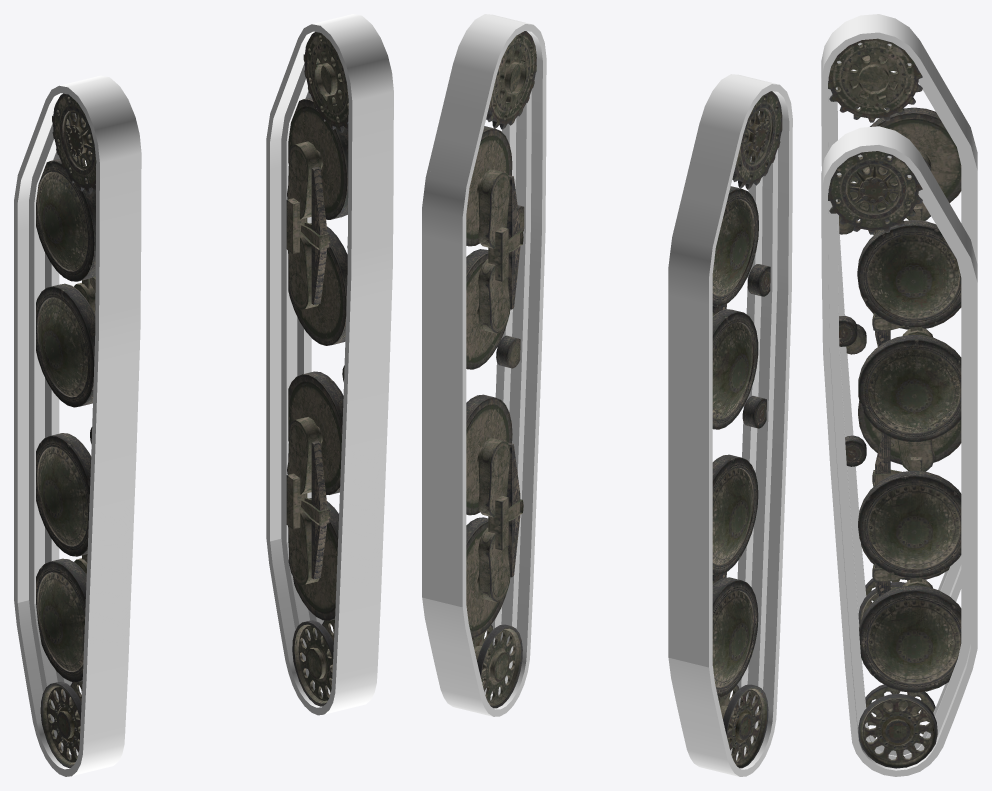
Rendered from Chassis.glb.
The picture shows the model from 3 angles, left to right: view 1: azimuth 30°, elevation 25°; view 2: azimuth 150°, elevation 25°; view 3: azimuth 270°, elevation 25°; orthographic projection. The views are drawn at different scales.
Visible parts, largest first — view 1: set_0_group_0, set_1_group_0, set_3_group_0, set_2_group_0; view 2: set_0_group_0, set_1_group_0, set_3_group_0, set_2_group_0; view 3: set_3_group_0, set_1_group_0, set_2_group_0, set_0_group_0.
Part boxes in pixels (x1,y1,x2,y2): set_0_group_0: (14, 75, 141, 776); set_1_group_0: (266, 14, 393, 715); set_3_group_0: (286, 32, 348, 706); set_2_group_0: (36, 93, 96, 768); set_0_group_0: (668, 74, 792, 776); set_1_group_0: (422, 14, 546, 716); set_3_group_0: (466, 31, 536, 708); set_2_group_0: (712, 91, 782, 768); set_3_group_0: (828, 151, 961, 768); set_1_group_0: (821, 126, 977, 776); set_2_group_0: (828, 38, 961, 624); set_0_group_0: (821, 14, 977, 614).
Size of the model in its own units: 2.06 by 4.64 by 1.04.
Materials: 4 (2 with a texture image).
